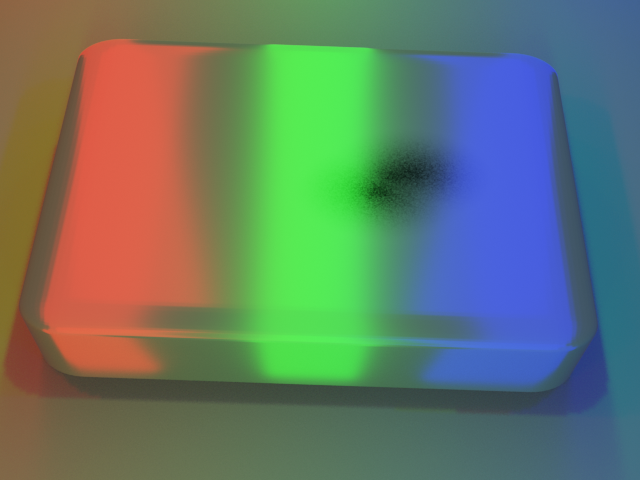stain: (268, 106, 522, 249)
